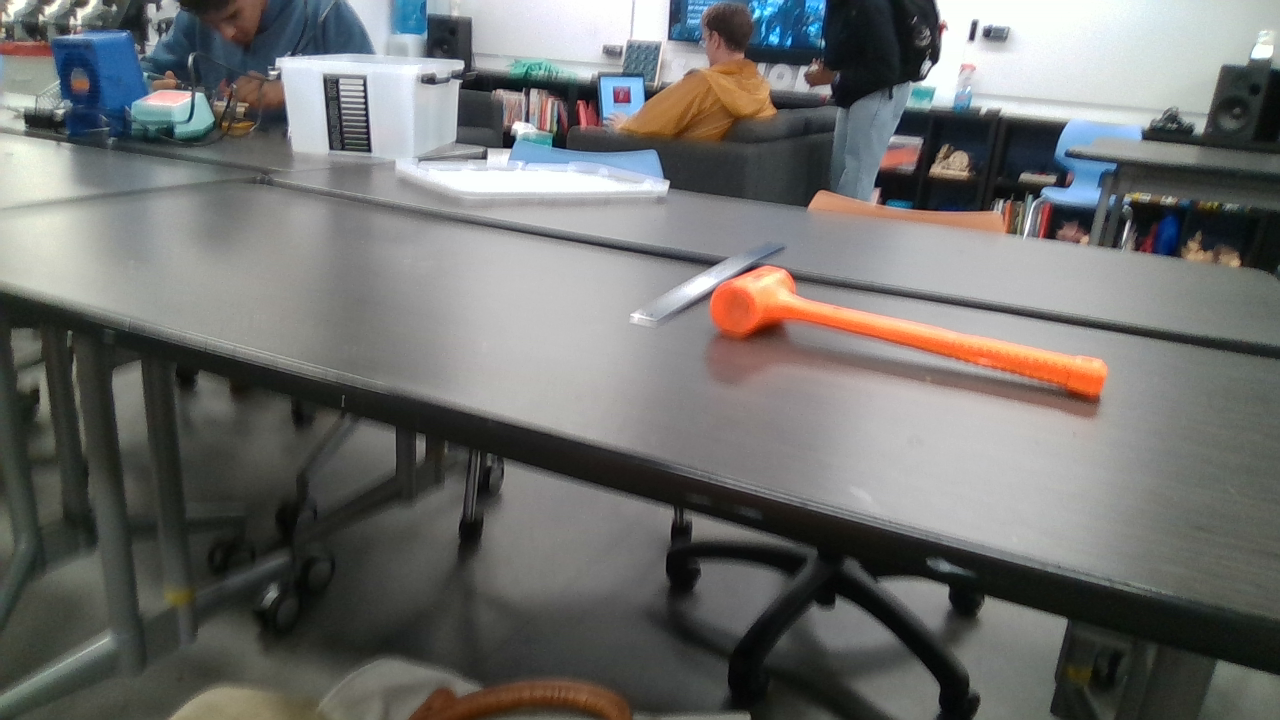Orange Hammer: (706, 265, 1104, 398)
